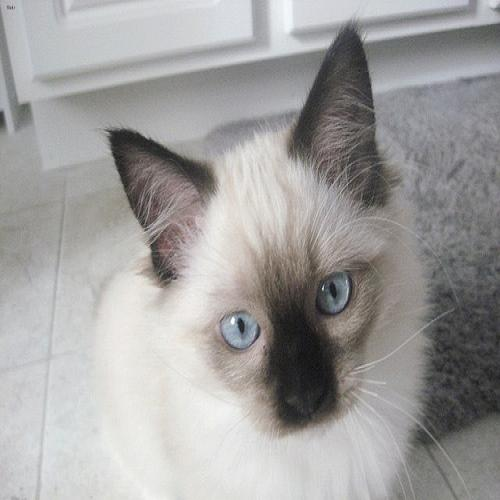ragdoll: (90, 20, 431, 468)
